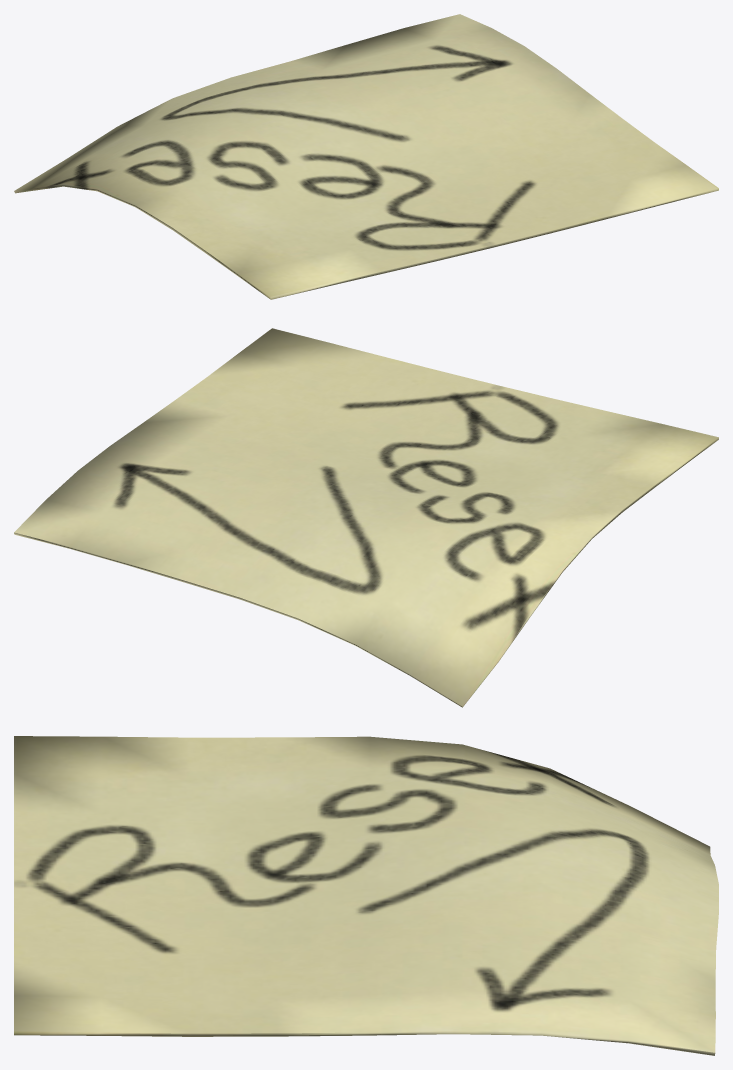
File: post.fbx
The picture shows the model from 3 angles, top to bottom: view 1: azimuth 30°, elevation 25°; view 2: azimuth 150°, elevation 25°; view 3: azimuth 270°, elevation 25°; orthographic projection. The views are drawn at different scales.
Visible parts, largest first — view 1: Plane; view 2: Plane; view 3: Plane.
Boxes of the visible parts, box(x1,y1,x2,y2) form: Plane: box(14, 14, 718, 299); Plane: box(14, 328, 718, 707); Plane: box(14, 736, 718, 1055).
Bounding box in the file's own units: 205 × 38.66 × 201.
